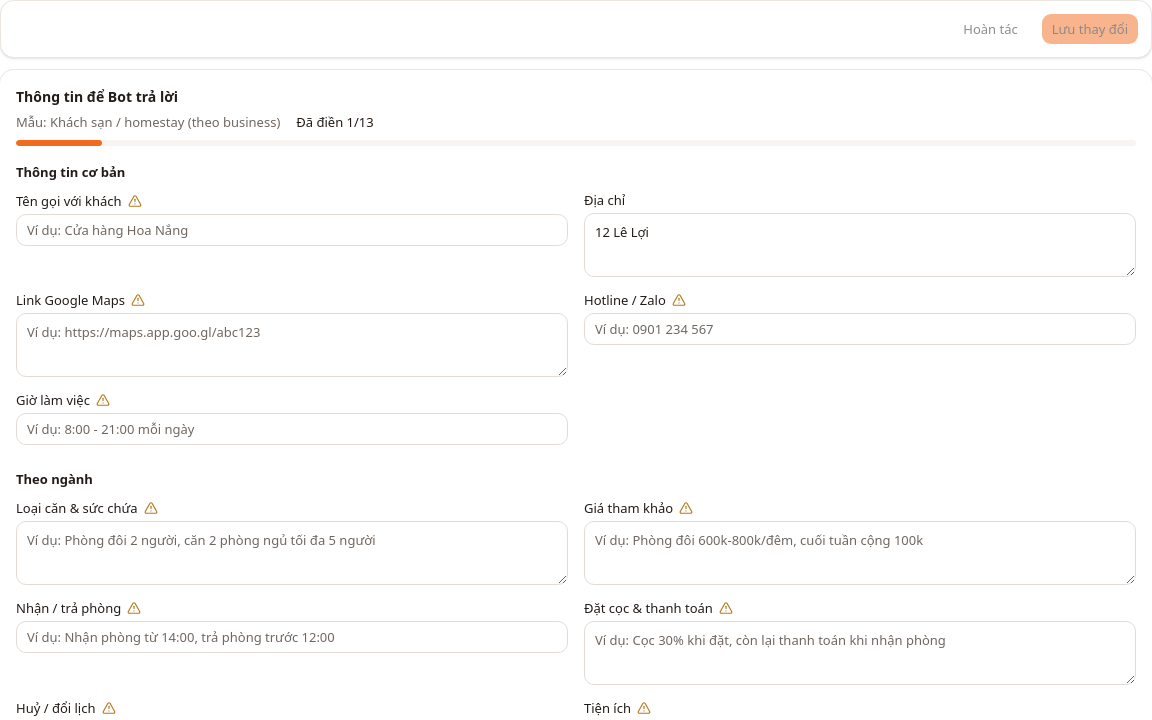
Test: BusinessProfileForm › marks empty fields with a warning and drops it once filled
Expected: the field labelled "Tên gọi với khách" is shown, x1=16 y1=214 x2=568 y2=246
In the field labelled "Hotline / Zalo": (860, 329) x1=584 y1=313 x2=1136 y2=345, type "0901"
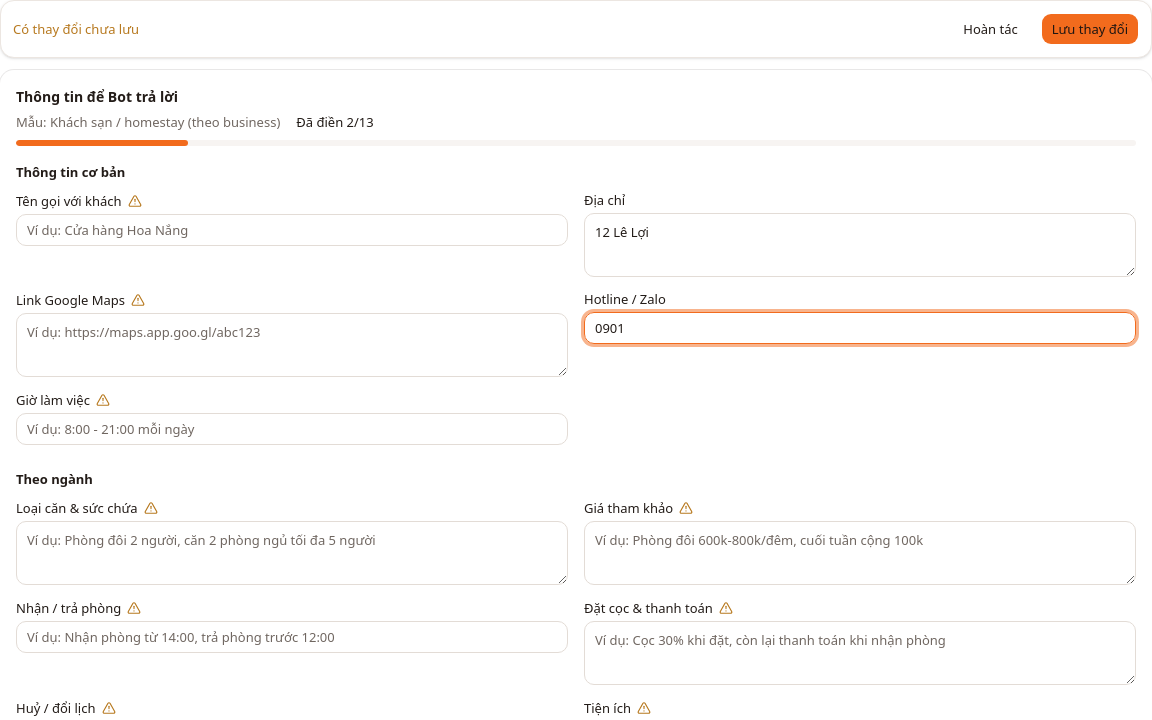
Result: the number of pictures named "Chưa điền" is 11
Result: the text "Đã điền 2/13" is shown at x1=296 y1=112 x2=374 y2=132
